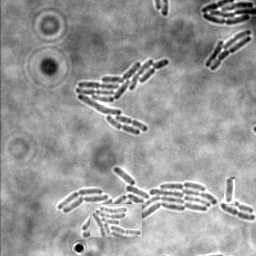Dividing: (219, 204, 255, 222), (223, 199, 253, 215), (224, 177, 235, 204)
Microcolony: (57, 167, 216, 238), (75, 59, 169, 136), (204, 30, 251, 72), (90, 204, 142, 237), (200, 1, 255, 26)
